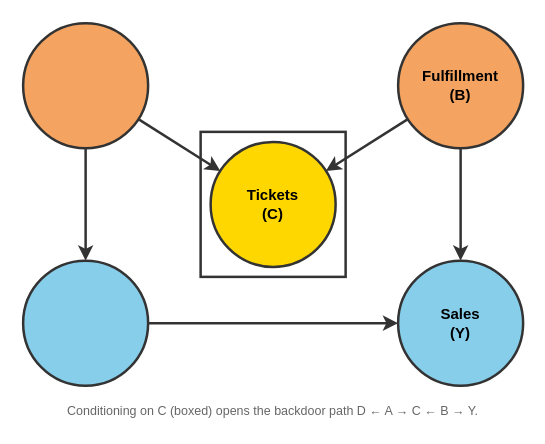
The diagram is 545 pixels wide and 444 high, and some of its shapes have lost their labels. The box of each missing label's shape, as (x1, y1, x2, y2) in pixels:
Engagement (A): (21, 21, 149, 149)
Optimization (D): (21, 259, 149, 386)
